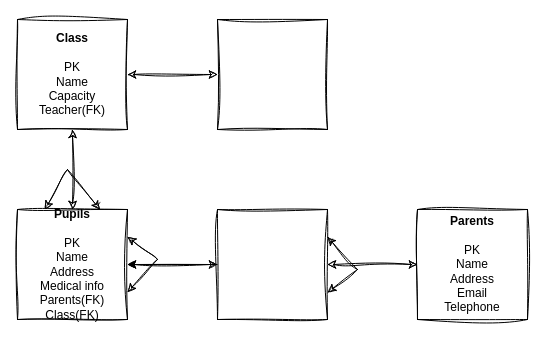
The diagram is 545 pixels wide and 339 high, and some of its shapes have lost their labels. The shapes that lost their labels are listed below. From the top down, each one's centre as x and y in pixels, then its label:
point 272,74: Teachers PK Name Address Email Telephone Salary
point 272,264: Parent-Pupils Pupil(FK) Parent(FK) Teacher(FK)
